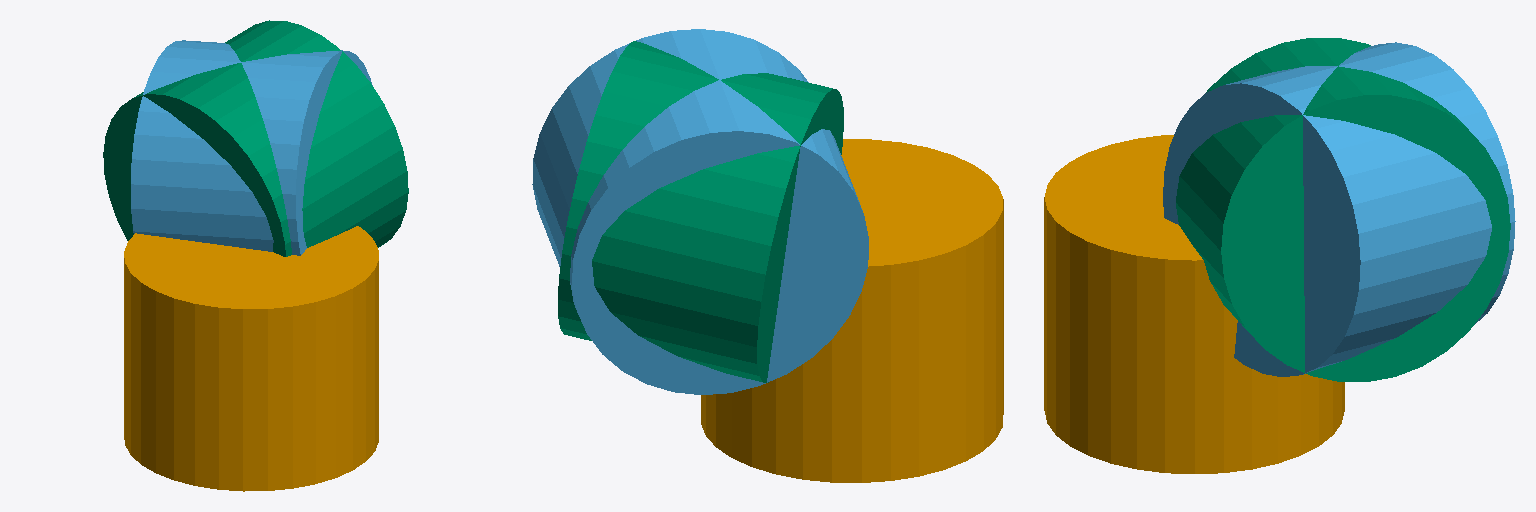
URDF robot description (pepe):
<?xml version="1.0"?><robot name="pepe">
	<link name="0">
		<visual>
			<geometry>
				<cylinder length="1.5719694036168639" radius="0.9999"/>
			</geometry>
		</visual>
		<collision>
			<geometry>
				<cylinder length="1.5719694036168639" radius="0.9999"/>
			</geometry>
		</collision>
		<inertial>
			<mass value="4.937499881949529"/>
			<inertia ixx="0.03" iyy="0.03" izz="0.03" ixy="0" ixz="0" iyx="0"/>
		</inertial>
	</link>
	<link name="11">
		<visual>
			<geometry>
				<cylinder length="1.371969403616864" radius="0.9999"/>
			</geometry>
		</visual>
		<collision>
			<geometry>
				<cylinder length="1.371969403616864" radius="0.9999"/>
			</geometry>
		</collision>
		<inertial>
			<mass value="4.309307008654529"/>
			<inertia ixx="0.03" iyy="0.03" izz="0.03" ixy="0" ixz="0" iyx="0"/>
		</inertial>
	</link>
	<link name="12">
		<visual>
			<geometry>
				<cylinder length="1.371969403616864" radius="0.9999"/>
			</geometry>
		</visual>
		<collision>
			<geometry>
				<cylinder length="1.371969403616864" radius="0.9999"/>
			</geometry>
		</collision>
		<inertial>
			<mass value="4.309307008654529"/>
			<inertia ixx="0.03" iyy="0.03" izz="0.03" ixy="0" ixz="0" iyx="0"/>
		</inertial>
	</link>
	<joint name="11_to_0" type="revolute">
		<parent link="0"/>
		<child link="11"/>
		<axis xyz="1 0 0"/>
		<limit effort="1" upper="-3.1415" lower="3.1415" velocity="1"/>
		<origin rpy="4.05418725368378 1.7107464802685615 3.2037363709312974" xyz="0.5957727693958238 0.963333276953687 0.9703223273250453"/>
	</joint>
	<joint name="12_to_0" type="revolute">
		<parent link="0"/>
		<child link="12"/>
		<axis xyz="1 0 0"/>
		<limit effort="1" upper="-3.1415" lower="3.1415" velocity="1"/>
		<origin rpy="6.081280880525671 1.7107464802685615 3.2037363709312974" xyz="0.5957727693958238 0.963333276953687 0.9703223273250453"/>
	</joint>
</robot>

--- Facts derived from the render (not from the file) ---
The picture shows the robot from 3 angles, left to right: view 1: azimuth 30°, elevation 25°; view 2: azimuth 150°, elevation 25°; view 3: azimuth 270°, elevation 25°; orthographic projection.
Model pepe with 3 links and 2 joints (2 revolute), rooted at 0, posed all joints at 0.
Links seen in each view (by area): view 1: 0, 12, 11; view 2: 0, 11, 12; view 3: 0, 11, 12.
Boxes of the visible links, x1,y1,x2,y2 form: 0: (124,226,378,491); 12: (103,20,408,256); 11: (131,40,372,255); 0: (701,139,1003,482); 11: (532,29,868,394); 12: (558,41,843,382); 0: (1044,135,1344,473); 11: (1163,42,1515,376); 12: (1176,38,1510,381).
Bounding box of the posed robot: 2.8 × 3.14 × 2.84 m (x, y, z).
Geometry: primitives only (box / cylinder / sphere), no mesh files.
